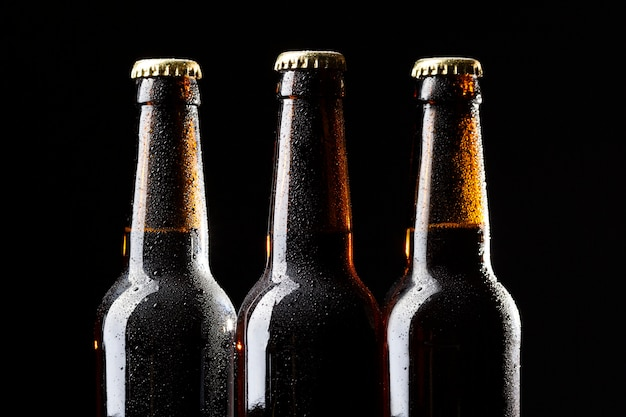alcohol: (235, 47, 383, 417), (381, 53, 530, 417), (95, 56, 240, 417)
